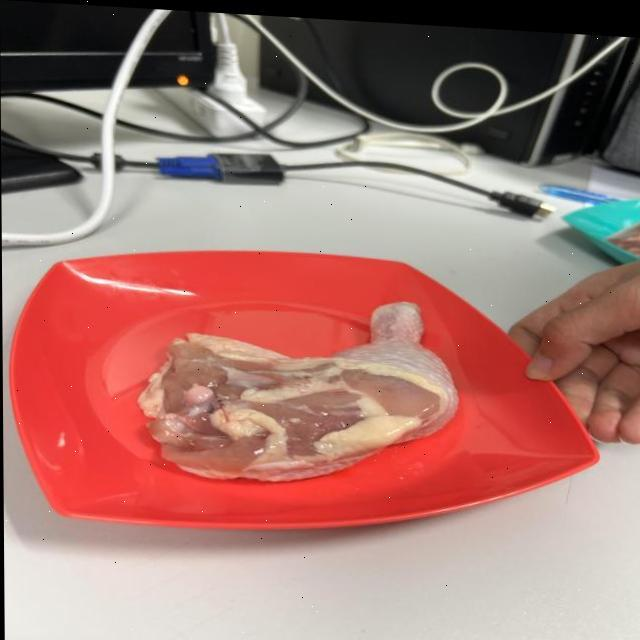quater: (143, 284, 453, 480)
